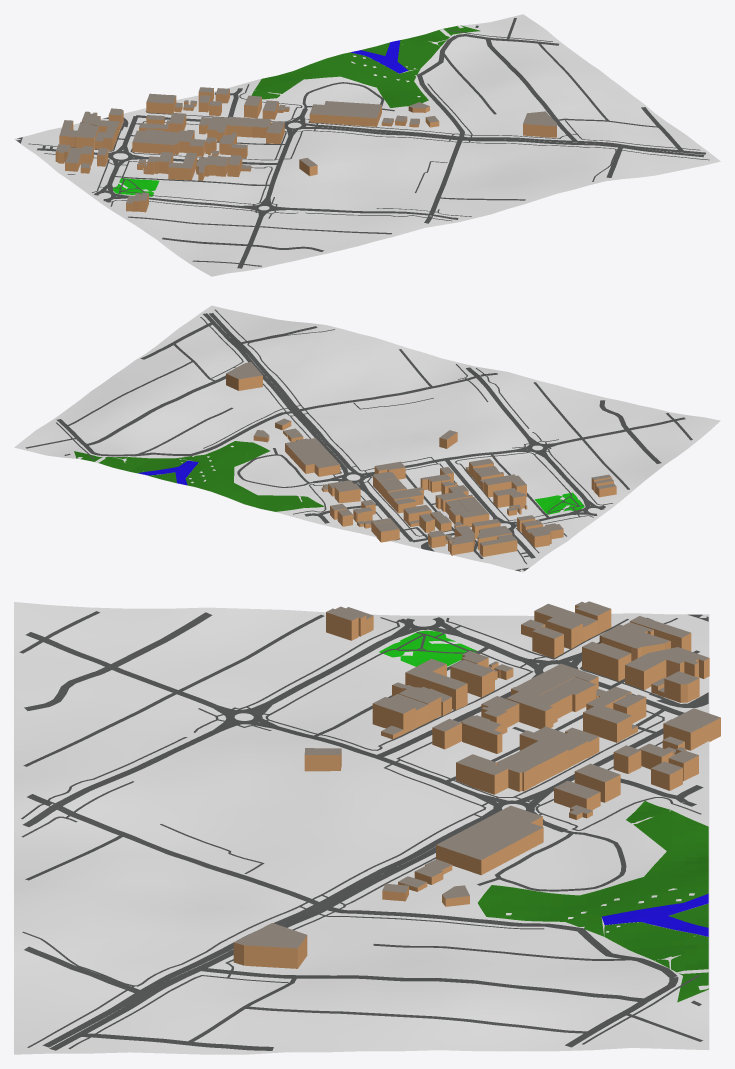
File: Coffs-Harour_OSM.fbx
3 renders of one model, top to bottom at view 1: azimuth 30°, elevation 25°; view 2: azimuth 150°, elevation 25°; view 3: azimuth 270°, elevation 25°, orthographic. The views are drawn at different scales.
Visible parts, largest first — view 1: Terrain, map_4.osm_buildings, map_4.osm_forest, map_4.osm_roads_tertiary, map_4.osm_buildings.001, map_4.osm_paths_footway, map_4.osm_roads_residential, map_4.osm_roads_service, map_4.osm_water, map_4.osm_vegetation; view 2: Terrain, map_4.osm_buildings, map_4.osm_roads_tertiary, map_4.osm_forest, map_4.osm_buildings.001, map_4.osm_roads_residential, map_4.osm_paths_footway, map_4.osm_roads_service, map_4.osm_vegetation, map_4.osm_water; view 3: Terrain, map_4.osm_buildings, map_4.osm_forest, map_4.osm_roads_tertiary, map_4.osm_buildings.001, map_4.osm_roads_residential, map_4.osm_paths_footway, map_4.osm_roads_service, map_4.osm_water, map_4.osm_vegetation.
Part boxes in pixels (box(x1,y1,x2,y2)): Terrain: box(14, 14, 720, 276); map_4.osm_buildings: box(55, 87, 556, 212); map_4.osm_forest: box(251, 25, 480, 107); map_4.osm_roads_tertiary: box(37, 108, 705, 268); map_4.osm_buildings.001: box(226, 95, 381, 176); map_4.osm_paths_footway: box(28, 83, 709, 221); map_4.osm_roads_residential: box(105, 34, 683, 251); map_4.osm_roads_service: box(42, 18, 660, 266); map_4.osm_water: box(350, 40, 408, 73); map_4.osm_vegetation: box(113, 178, 159, 196); Terrain: box(14, 305, 720, 572); map_4.osm_buildings: box(226, 362, 616, 556); map_4.osm_roads_tertiary: box(203, 313, 685, 558); map_4.osm_forest: box(74, 441, 324, 511); map_4.osm_buildings.001: box(285, 430, 457, 503); map_4.osm_roads_residential: box(56, 322, 661, 523); map_4.osm_paths_footway: box(200, 309, 612, 564); map_4.osm_roads_service: box(25, 343, 692, 558); map_4.osm_vegetation: box(535, 492, 584, 514); map_4.osm_water: box(138, 460, 198, 485); Terrain: box(14, 602, 709, 1054); map_4.osm_buildings: box(233, 601, 720, 968); map_4.osm_forest: box(478, 801, 708, 1002); map_4.osm_roads_tertiary: box(22, 617, 684, 1050); map_4.osm_buildings.001: box(304, 740, 620, 875); map_4.osm_roads_residential: box(24, 612, 703, 1050); map_4.osm_paths_footway: box(21, 617, 701, 1048); map_4.osm_roads_service: box(19, 611, 702, 1043); map_4.osm_water: box(602, 894, 708, 936); map_4.osm_vegetation: box(379, 630, 477, 666).
Size of the model in its own units: 828 by 23.43 by 566.
